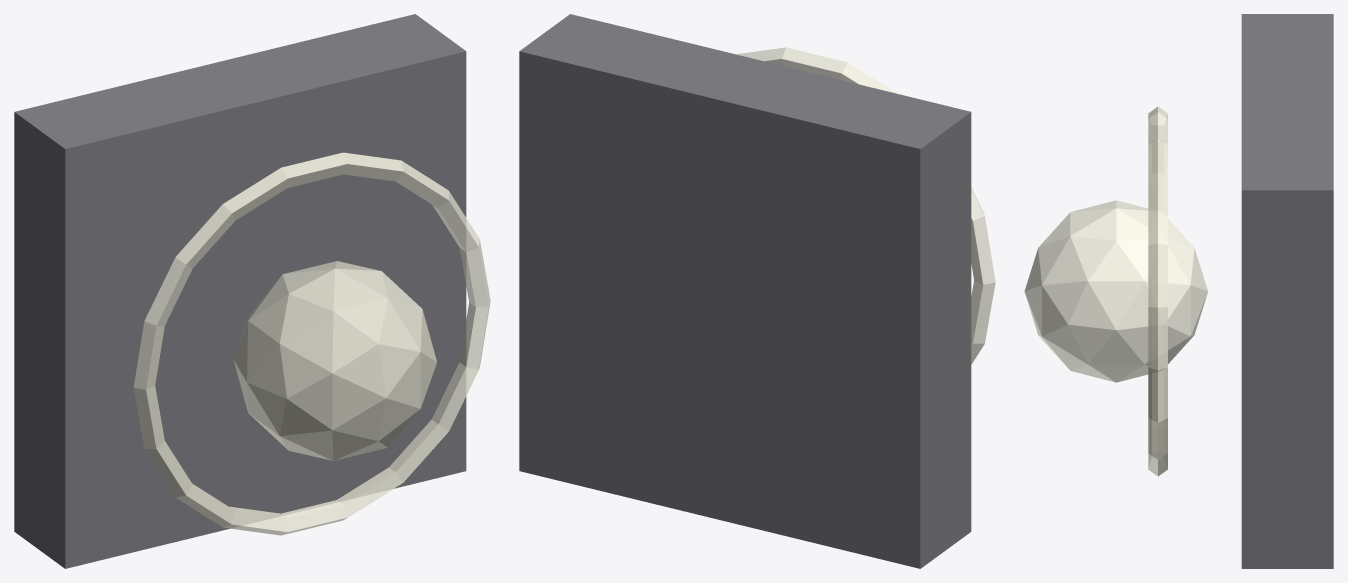
Rendered from pressure_tile_ancient.glb.
3 views of the same model, side by side, from view 1: azimuth 30°, elevation 25°; view 2: azimuth 150°, elevation 25°; view 3: azimuth 270°, elevation 25° (orthographic). The views are drawn at different scales.
Parts seen in each view (by area): view 1: puzzle_base, puzzle_core, rune_ring; view 2: puzzle_base, rune_ring; view 3: puzzle_base, puzzle_core, rune_ring.
Part boxes in pixels (x1,y1,x2,y2): puzzle_base: [14, 14, 466, 568]; puzzle_core: [233, 261, 436, 460]; rune_ring: [133, 152, 490, 535]; puzzle_base: [519, 14, 971, 568]; rune_ring: [736, 47, 995, 364]; puzzle_base: [1241, 14, 1333, 568]; puzzle_core: [1024, 200, 1207, 382]; rune_ring: [1148, 106, 1167, 476].
Bounding box in the file's own units: 1 × 1 × 0.74.
